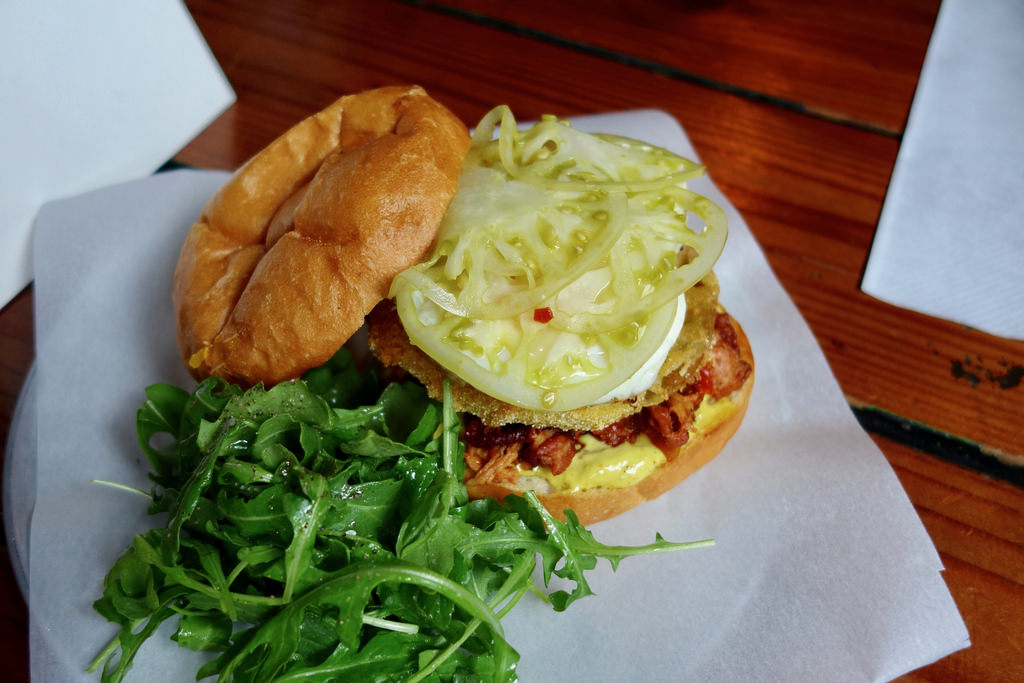chopped lettuce: (142, 392, 514, 661)
slice of bread: (188, 110, 427, 338)
